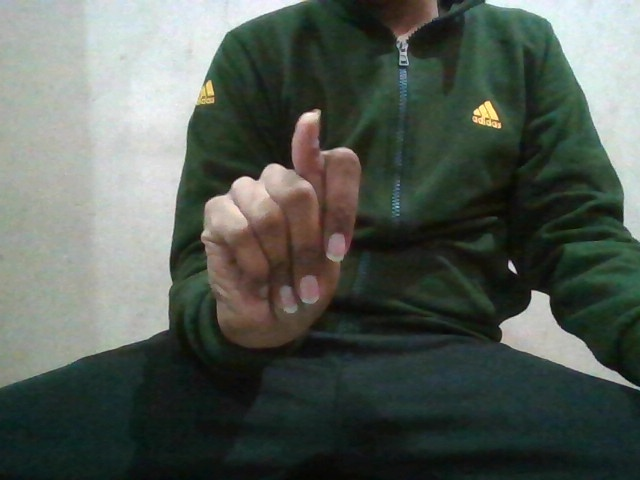T: (195, 108, 371, 350)
